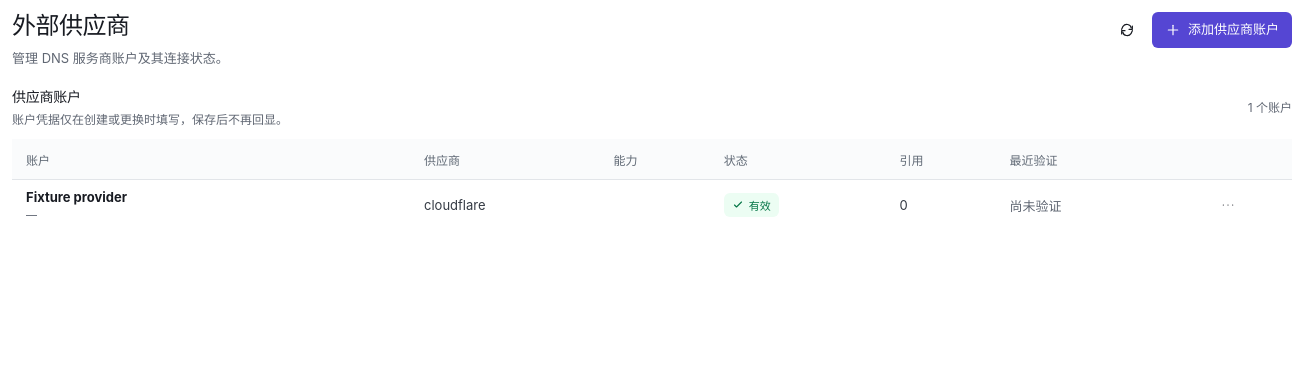
Test case: Provider integration deletion › retains the row and explains a backend reference conflict
The width and height of the screenshot is (1304, 373).
Step 1. Press ArrowDown in the button named "Fixture provider 的操作", box [1212, 189, 1244, 221]
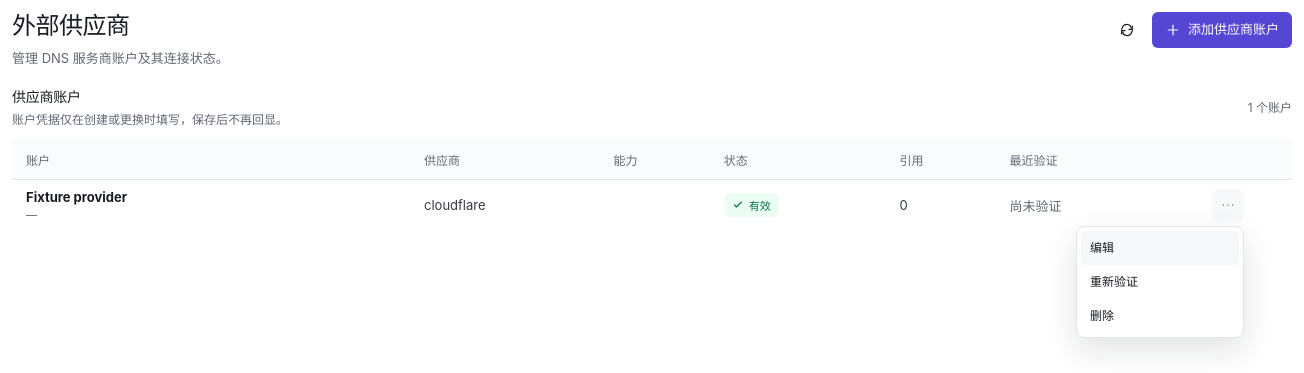
Check: the menu item "删除" is shown
Step 2. Click the menu item "删除" → (1160, 316), box [1081, 299, 1239, 333]
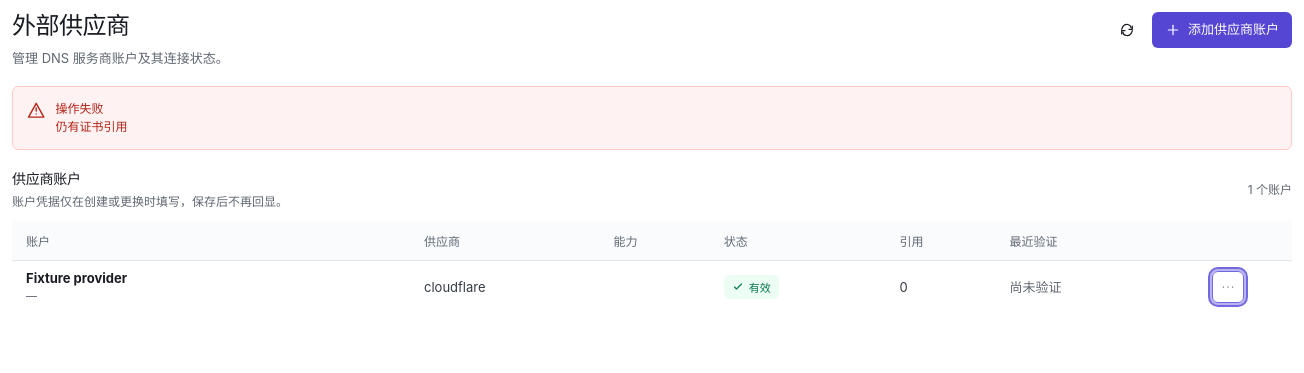
Check: the text "Fixture provider" is shown, box [26, 270, 127, 286]
Check: the text "仍有证书引用" is shown, box [55, 119, 127, 134]
